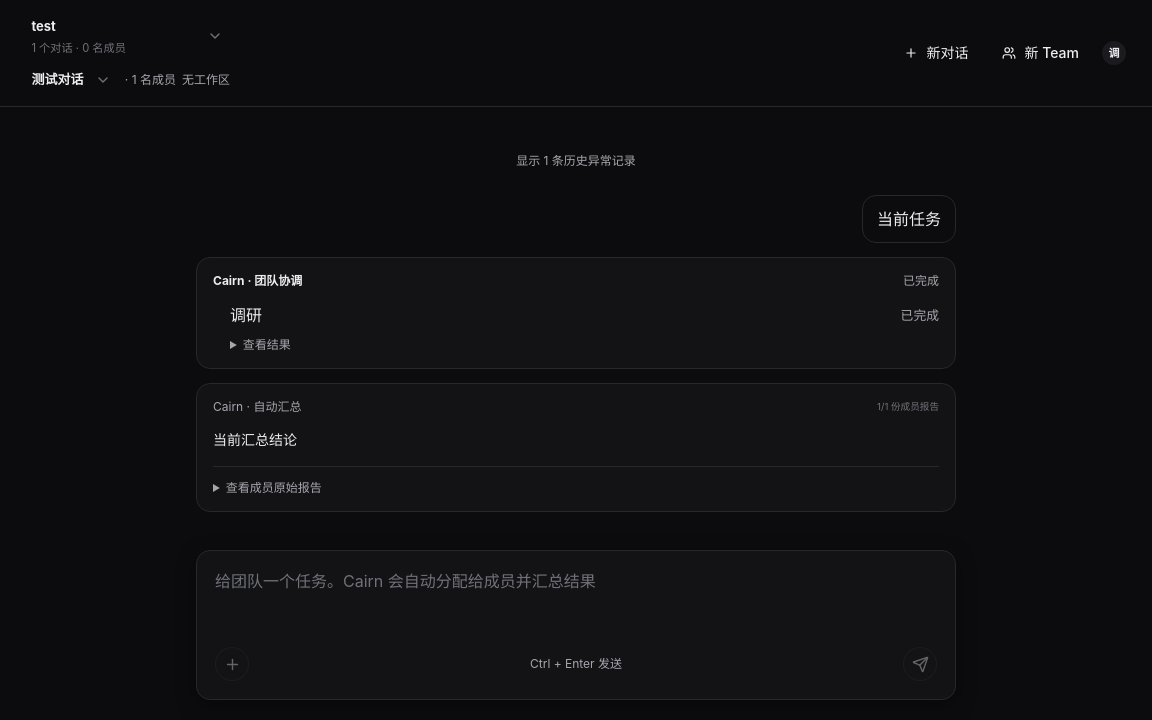
Test: TeamsView route lifecycle › hides stale failures, preserves source reports, and exposes lightweight Team controls
Expected: the text "应用在任务执行期间退出" is not shown
Expected: the number of elements with class "is-plain" is 2, [24, 12, 230, 61]; [24, 65, 119, 94]
What coordinates should you click on to do the following:
click the button with class "team-history-toggle"
I would click on:
 (576, 161)
Its box is [506, 147, 646, 175].
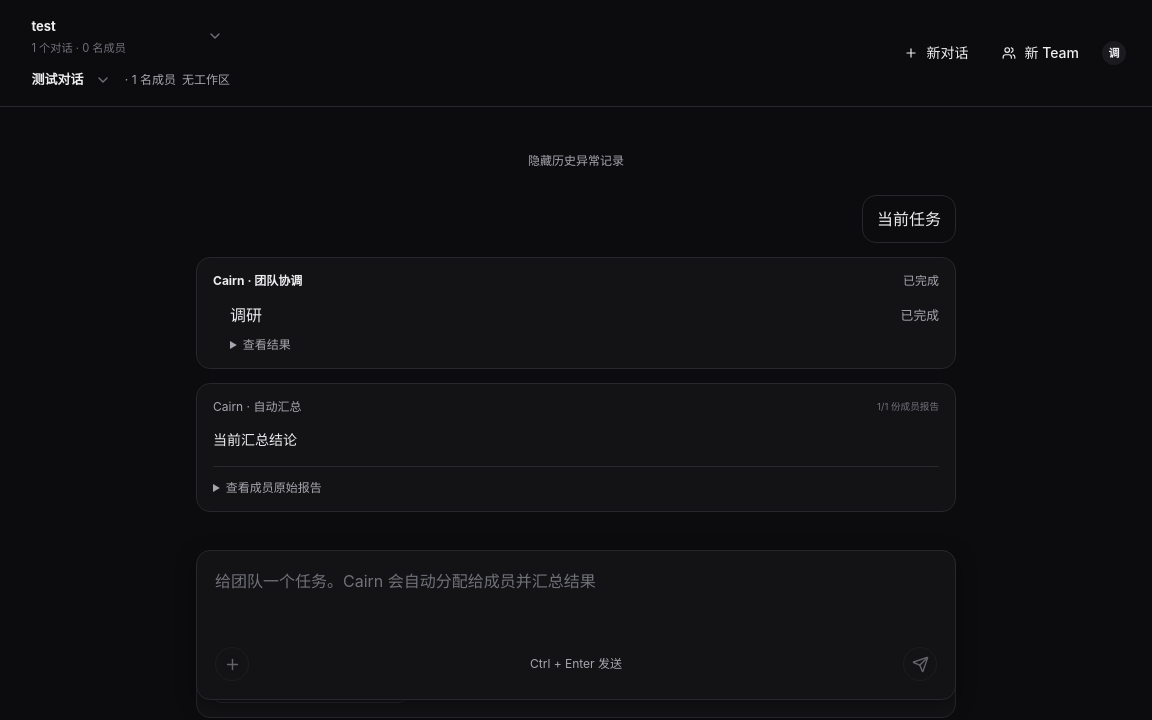
Expected: the text "应用在任务执行期间退出" is shown, [213, 646, 389, 666]
What coordinates should you click on to do the following:
click the button titled "调研"
I would click on:
 (1114, 53)
Its box is [1100, 39, 1128, 67].
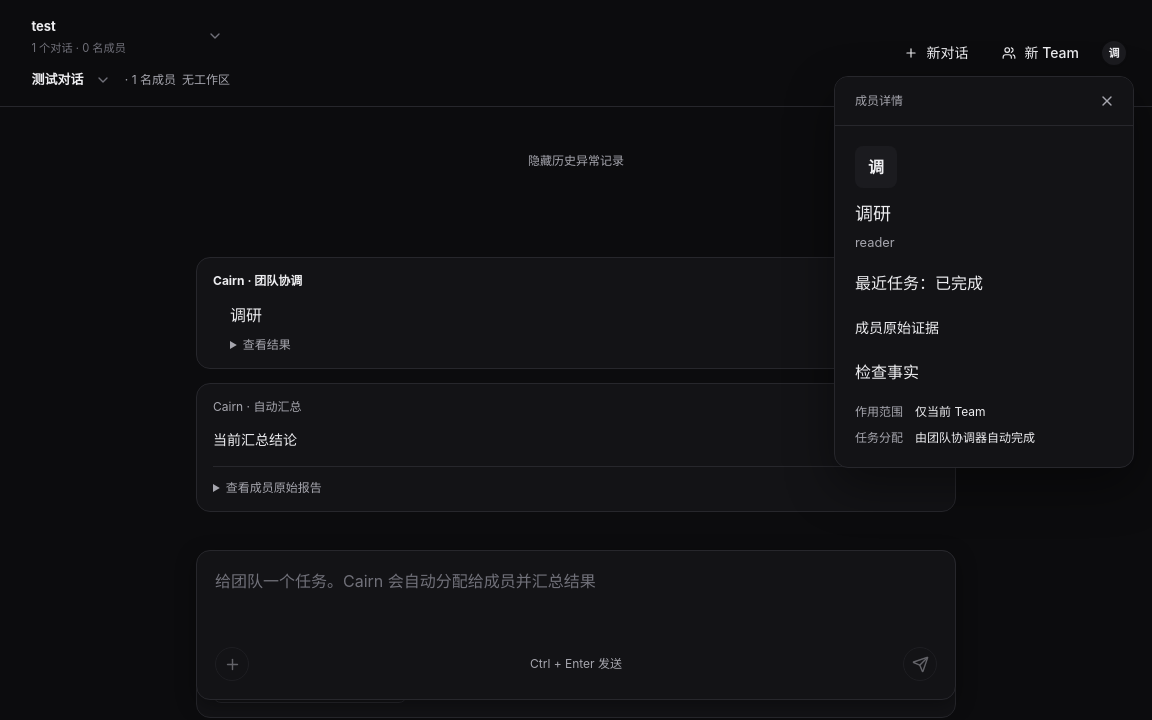
Now the button named "关闭成员详情" is shown, box [1091, 85, 1123, 117]
